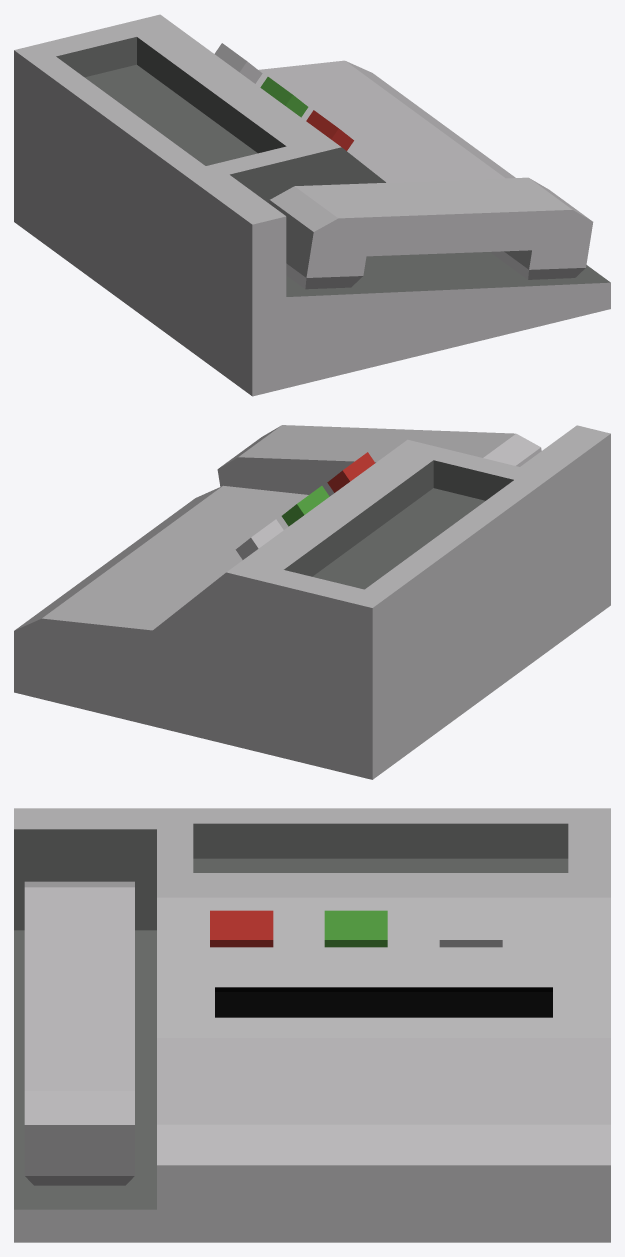
Rendered from SM_Telephone_01.glb.
The picture shows the model from 3 angles, top to bottom: view 1: azimuth 30°, elevation 25°; view 2: azimuth 150°, elevation 25°; view 3: azimuth 270°, elevation 25°; orthographic projection. The views are drawn at different scales.
Parts seen in each view (by area): view 1: SM_Telephone_01; view 2: SM_Telephone_01; view 3: SM_Telephone_01.
Boxes of the visible parts, x1=… form: SM_Telephone_01: x1=14, y1=14, x2=610, y2=396; SM_Telephone_01: x1=14, y1=425, x2=610, y2=779; SM_Telephone_01: x1=14, y1=808, x2=610, y2=1242.
Bounding box in the file's own units: 0.4535 × 0.2077 × 0.5224.
1 material, 1 textured.
